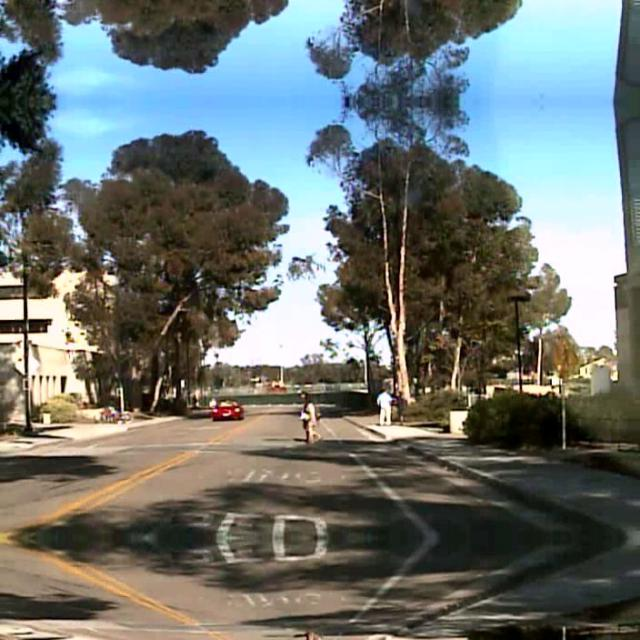pedestrianCrossing: (551, 339, 579, 379)
